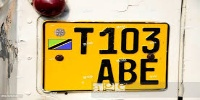T: (73, 25, 98, 56)
